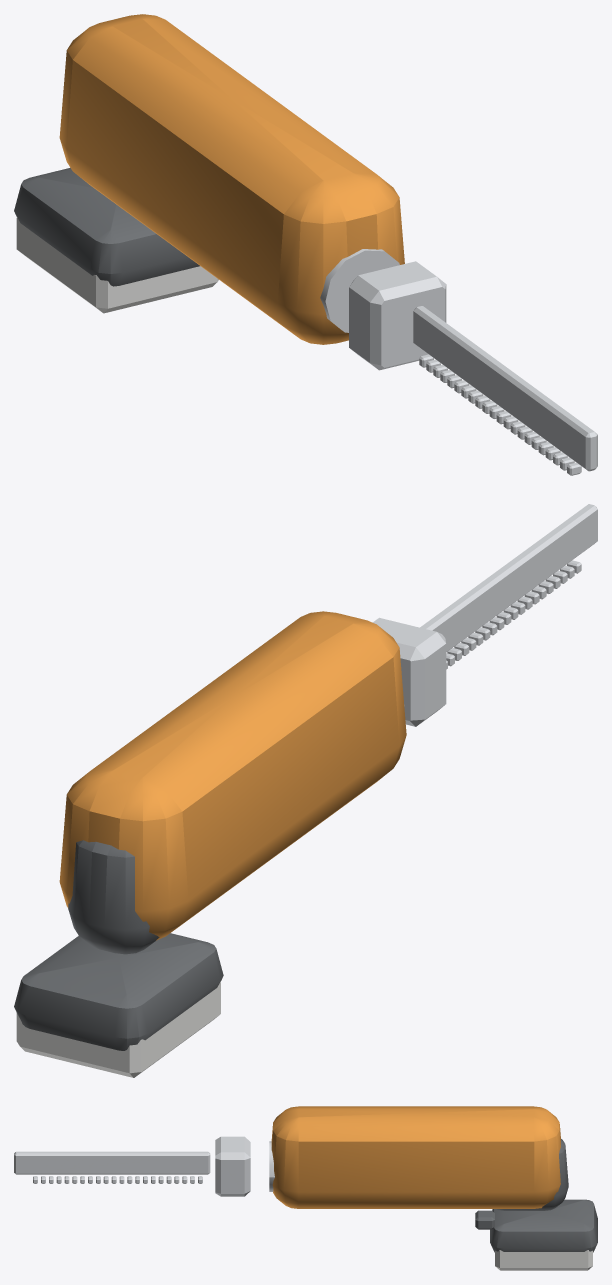
3 renders of one model, top to bottom at view 1: azimuth 30°, elevation 25°; view 2: azimuth 150°, elevation 25°; view 3: azimuth 270°, elevation 25°, orthographic. The views are drawn at different scales.
Visible parts, largest first — view 1: reciprocating-saw; view 2: reciprocating-saw; view 3: reciprocating-saw.
Boxes of the visible parts, left/top/right/bottom form: reciprocating-saw: left=14, top=14, right=597, bottom=475; reciprocating-saw: left=14, top=504, right=597, bottom=1077; reciprocating-saw: left=14, top=1106, right=597, bottom=1270.
Size of the model in its own units: 0.086 by 0.16 by 0.595.
